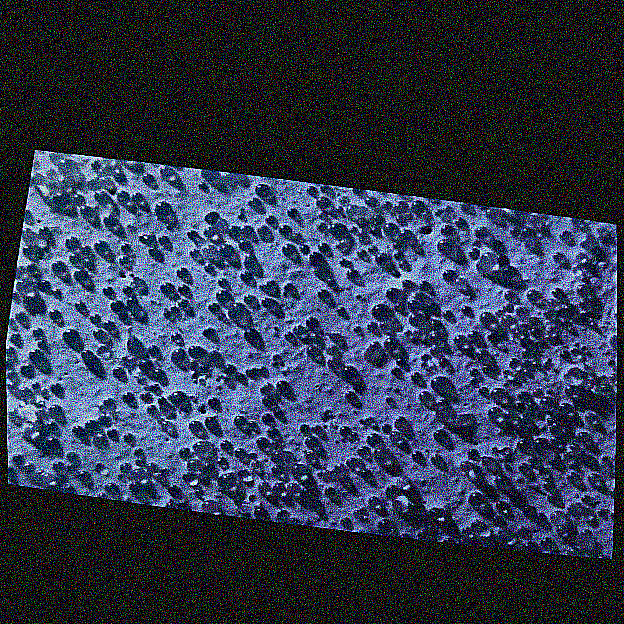GrassBeadSeg: (142, 172, 599, 482), (119, 261, 616, 538), (51, 191, 582, 447), (160, 165, 553, 489), (32, 326, 565, 522), (155, 210, 500, 508), (121, 247, 589, 440), (238, 212, 545, 488), (291, 229, 552, 548), (54, 269, 616, 415), (280, 282, 613, 518), (46, 171, 346, 429), (106, 204, 452, 424), (80, 204, 578, 355), (171, 346, 612, 516), (63, 282, 590, 422), (146, 239, 566, 407), (20, 386, 576, 512), (89, 294, 535, 449), (81, 213, 536, 359), (110, 244, 376, 492), (222, 277, 506, 509), (103, 213, 525, 357), (161, 400, 591, 538), (213, 286, 484, 503), (179, 214, 616, 345), (304, 256, 579, 460), (283, 243, 596, 421), (50, 287, 562, 392), (122, 201, 290, 512), (77, 268, 406, 426), (111, 305, 571, 414), (194, 288, 540, 432), (12, 225, 219, 462), (314, 270, 503, 524), (29, 270, 519, 367), (25, 274, 507, 372), (121, 296, 560, 403), (314, 264, 580, 440), (147, 234, 384, 430), (132, 220, 570, 325), (176, 272, 528, 401), (323, 328, 553, 522), (145, 366, 509, 486), (204, 205, 393, 431), (91, 427, 573, 514), (119, 244, 303, 471), (237, 214, 593, 330), (261, 183, 477, 373), (262, 370, 539, 515), (94, 246, 350, 398), (140, 195, 329, 400), (98, 251, 321, 424), (31, 225, 261, 390), (103, 318, 519, 409), (306, 225, 459, 469), (51, 248, 453, 340), (204, 228, 387, 428), (334, 205, 578, 354), (393, 203, 528, 470), (95, 431, 422, 539), (168, 389, 466, 505), (149, 225, 357, 390), (158, 234, 337, 423), (246, 276, 505, 404), (266, 268, 456, 435), (121, 229, 365, 359), (394, 200, 521, 448), (39, 195, 377, 288), (101, 407, 361, 525), (53, 246, 478, 317), (315, 220, 532, 359), (157, 395, 591, 463), (410, 201, 528, 450), (187, 229, 288, 518), (111, 323, 358, 436), (78, 296, 277, 436), (39, 330, 399, 407), (141, 182, 264, 400), (32, 384, 559, 434), (307, 185, 383, 529), (177, 370, 477, 455), (154, 200, 288, 389), (217, 393, 485, 486), (219, 243, 590, 309), (243, 199, 347, 432), (110, 352, 280, 493), (48, 356, 448, 415), (261, 381, 522, 471), (534, 214, 614, 497), (97, 280, 274, 407), (187, 343, 379, 460), (488, 206, 553, 547), (256, 327, 435, 447), (204, 226, 283, 492), (411, 296, 539, 460), (326, 343, 591, 421), (74, 303, 429, 360), (127, 348, 349, 439), (102, 285, 246, 425), (171, 279, 422, 358), (122, 225, 268, 360), (150, 404, 577, 450), (167, 205, 494, 265), (293, 323, 499, 418), (75, 250, 401, 310), (493, 230, 582, 449), (470, 376, 604, 518), (257, 307, 526, 373), (28, 315, 413, 361), (176, 266, 483, 322), (84, 393, 541, 430), (65, 199, 424, 246), (352, 269, 488, 393), (502, 232, 616, 379), (272, 339, 381, 490), (513, 234, 579, 481), (162, 254, 577, 292), (246, 232, 306, 476), (282, 290, 425, 390), (491, 319, 595, 455), (188, 310, 495, 356), (26, 150, 83, 396), (81, 213, 339, 267), (424, 225, 503, 401), (147, 173, 327, 250), (120, 242, 409, 289), (249, 407, 442, 475), (532, 224, 606, 395), (65, 235, 352, 278), (436, 292, 508, 463), (455, 216, 520, 399), (263, 394, 436, 462), (183, 389, 356, 457), (291, 349, 373, 492), (68, 327, 218, 405), (218, 289, 434, 342), (104, 326, 405, 364), (437, 225, 519, 364), (51, 221, 269, 273), (220, 356, 341, 449), (53, 190, 98, 440), (428, 317, 550, 407), (418, 333, 589, 394), (441, 309, 581, 381), (42, 168, 123, 289), (384, 349, 568, 401), (191, 207, 488, 238), (339, 505, 533, 552), (267, 375, 414, 437), (305, 346, 397, 445), (202, 214, 276, 335), (136, 297, 189, 464), (467, 229, 571, 313), (123, 431, 306, 476), (117, 416, 252, 477), (440, 223, 475, 457), (317, 288, 362, 468), (467, 328, 563, 412), (418, 305, 470, 460), (229, 372, 576, 395), (105, 180, 210, 256), (284, 329, 357, 436), (269, 288, 426, 336), (515, 305, 572, 437), (240, 239, 342, 312), (263, 458, 473, 493), (45, 382, 159, 446), (363, 405, 502, 457), (311, 389, 431, 447), (81, 420, 189, 483), (210, 197, 259, 335), (354, 294, 438, 373), (522, 399, 583, 501), (36, 327, 162, 376), (261, 323, 316, 422), (27, 252, 313, 271), (317, 210, 399, 276), (341, 312, 423, 375), (185, 457, 267, 518), (23, 192, 104, 253), (275, 332, 318, 446), (417, 491, 516, 540), (215, 290, 389, 317), (193, 458, 313, 497), (227, 224, 364, 258), (20, 363, 63, 471), (433, 356, 488, 440), (57, 157, 99, 266), (88, 211, 137, 304), (239, 223, 407, 249), (161, 309, 220, 381), (225, 255, 246, 456), (449, 223, 562, 260), (170, 304, 225, 380), (503, 381, 609, 420), (325, 257, 403, 310), (202, 461, 312, 498), (384, 483, 465, 533), (138, 357, 355, 375), (507, 410, 585, 460), (454, 284, 576, 315), (72, 424, 204, 452), (431, 208, 443, 515), (306, 188, 321, 433), (271, 431, 393, 461), (514, 493, 575, 553), (344, 204, 400, 266), (362, 401, 522, 422), (177, 283, 399, 298), (158, 222, 171, 476), (385, 293, 422, 381), (437, 237, 585, 259), (134, 438, 210, 480), (139, 448, 202, 495), (218, 276, 429, 290), (371, 335, 398, 444), (45, 404, 152, 431), (292, 211, 317, 325), (515, 423, 545, 518), (39, 386, 65, 492), (70, 459, 194, 481), (369, 307, 514, 325), (532, 436, 590, 481), (390, 429, 421, 511), (72, 189, 106, 263), (496, 525, 578, 555), (124, 354, 196, 388), (117, 233, 145, 320), (316, 289, 515, 301), (146, 233, 210, 270), (272, 457, 370, 478), (7, 338, 43, 395), (522, 340, 586, 372), (240, 224, 309, 253), (8, 464, 74, 493), (530, 359, 546, 475), (262, 389, 284, 473), (247, 419, 389, 432), (516, 466, 542, 535), (356, 421, 407, 455), (183, 270, 252, 295), (6, 279, 29, 354), (257, 416, 279, 491), (436, 329, 489, 359), (356, 293, 397, 330), (106, 427, 144, 466), (495, 225, 533, 263), (119, 254, 250, 265), (374, 215, 403, 264), (110, 283, 163, 309), (563, 344, 616, 370), (188, 419, 231, 451), (167, 483, 250, 499), (430, 374, 450, 440), (357, 225, 390, 264), (38, 225, 56, 295), (187, 358, 257, 376), (469, 363, 534, 382), (518, 412, 556, 444), (486, 308, 524, 340), (77, 469, 134, 490), (486, 324, 553, 341), (27, 450, 76, 473), (319, 194, 348, 232), (189, 247, 288, 258), (199, 362, 251, 381), (274, 408, 309, 434), (459, 524, 559, 533), (251, 437, 279, 469), (517, 423, 559, 444), (46, 159, 97, 176), (145, 461, 172, 493), (14, 277, 61, 295), (13, 452, 61, 469), (333, 436, 354, 472), (339, 308, 376, 328), (365, 431, 389, 460), (209, 456, 242, 476), (392, 217, 405, 267), (22, 461, 76, 473), (380, 200, 398, 235), (321, 211, 366, 225), (513, 327, 527, 372), (501, 534, 534, 551), (518, 523, 568, 534), (547, 490, 590, 502), (364, 198, 383, 224), (552, 493, 578, 512), (60, 175, 109, 185), (202, 243, 217, 272), (10, 331, 19, 379), (21, 234, 41, 255), (479, 250, 507, 265), (68, 251, 94, 267), (398, 228, 411, 258), (545, 297, 565, 316), (45, 169, 66, 186), (534, 308, 554, 324), (133, 446, 140, 490), (6, 349, 16, 378), (336, 473, 362, 484), (117, 176, 128, 201), (237, 463, 256, 477), (529, 326, 556, 335), (528, 314, 539, 336), (94, 238, 108, 251), (251, 492, 258, 518), (539, 395, 554, 407), (227, 370, 245, 380), (377, 518, 393, 529), (104, 481, 119, 491), (437, 397, 449, 409), (453, 276, 466, 287), (224, 362, 235, 373), (48, 308, 59, 318), (287, 206, 297, 216)
